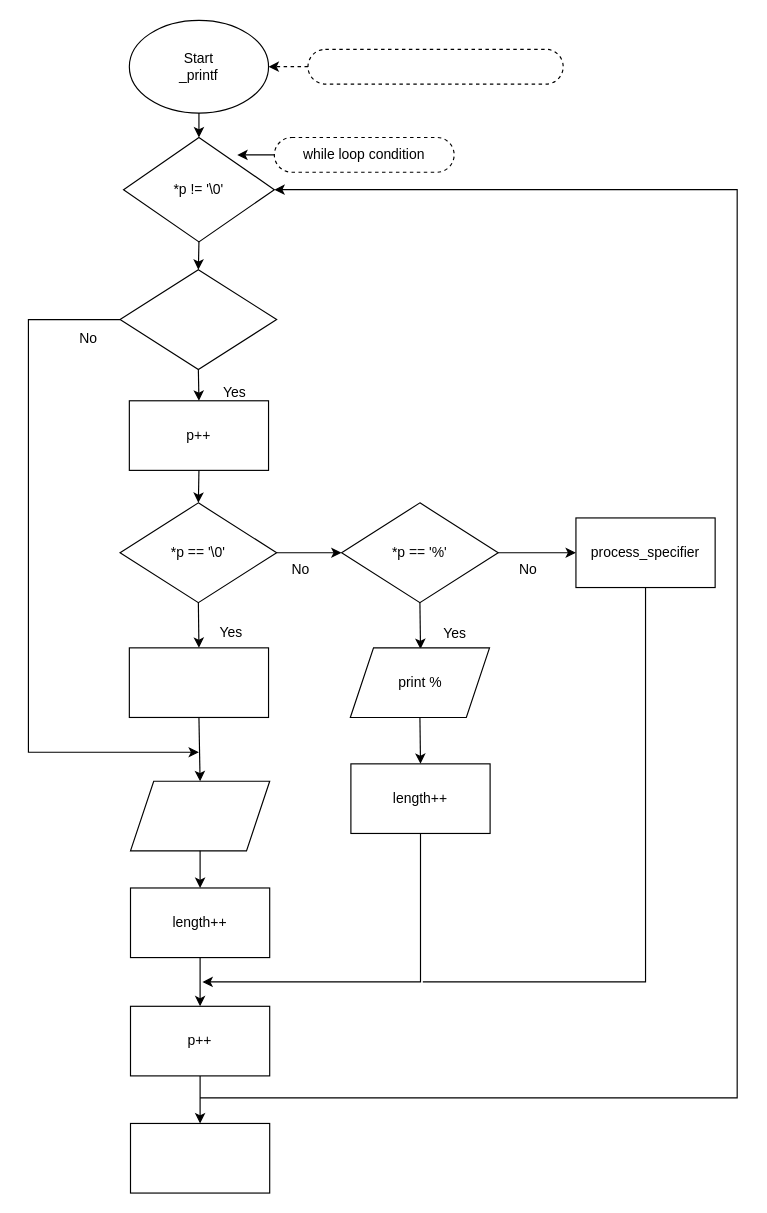
The diagram is 767 pixels wide and 1213 high, and some of its shapes have lost their labels. Each missing label, with the centre of its shape:
"*p == %" goes at (x=198, y=319).
"int _printf(const char *format, ...)" goes at (x=435, y=66).
"print une caractor" goes at (x=199, y=815).
"return -1" goes at (x=198, y=682).
"return length" goes at (x=199, y=1157).
